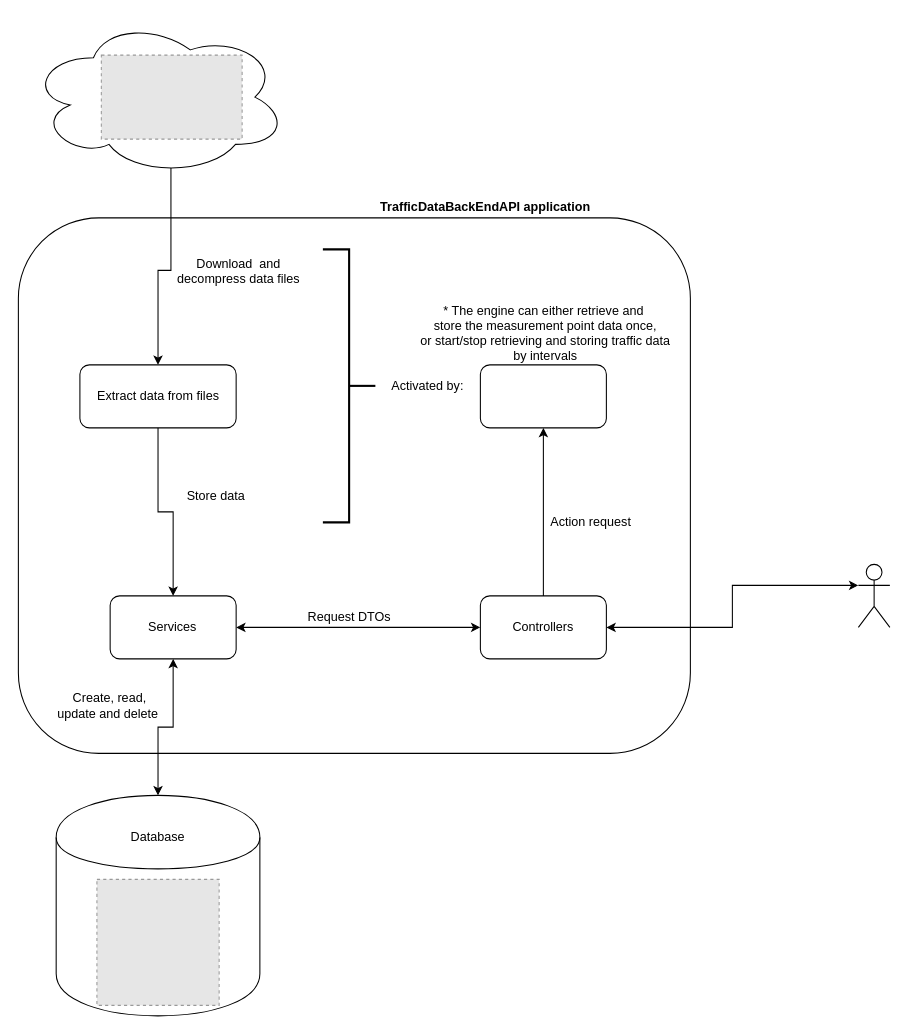
This 908x1034 diagram has some shape labels left out. Grey dashed boxes stand in for pictures. The shapes that lost their labels are listed below. From the top down, each one's box as (x1, y1, x2, y2) in pixels, then its label:
(479, 364, 606, 428): Engine
(857, 563, 890, 627): User
